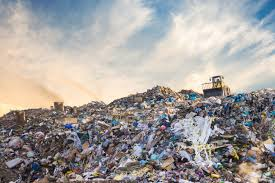garbage: (49, 119, 274, 182), (94, 102, 275, 180), (9, 130, 275, 182), (127, 97, 275, 179), (141, 95, 275, 181)
